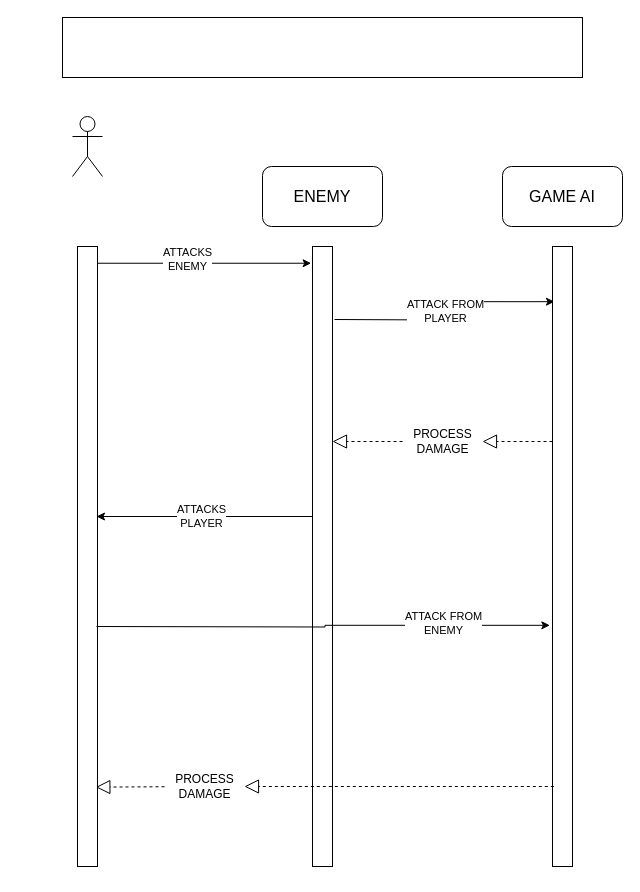
This 640x892 diagram has some shape labels left out. The shapes that lost their labels are listed below. From the top down, each one's centre as x and y in pixels, then its label:
pixel 322 47: SEQUENCE DIAGRAM
pixel 87 146: Player Character: NINJA
